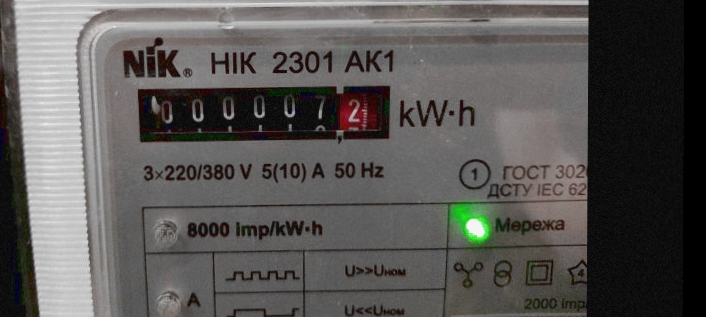0: (219, 94, 237, 121), (189, 96, 206, 124), (158, 98, 175, 125), (281, 91, 297, 119), (251, 92, 266, 119)
2: (346, 96, 362, 125)
7: (311, 93, 327, 122)
screen: (129, 75, 402, 149)
